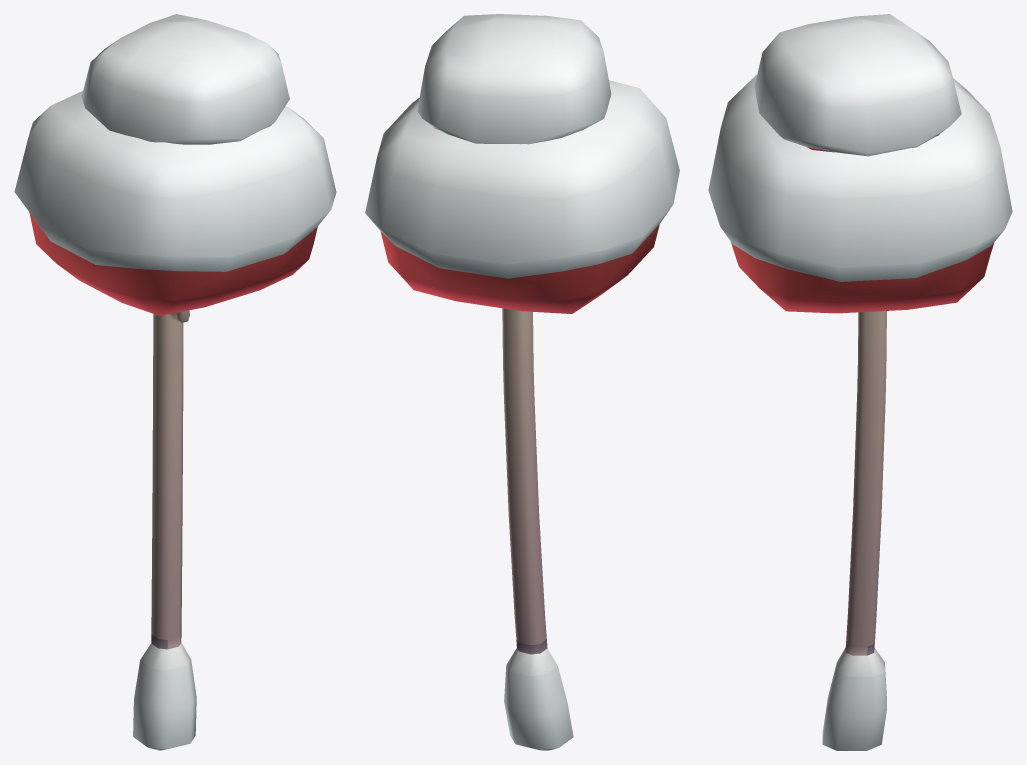
File: birch_tree_SC_09_snow.fbx
The picture shows the model from 3 angles, left to right: view 1: azimuth 30°, elevation 25°; view 2: azimuth 150°, elevation 25°; view 3: azimuth 270°, elevation 25°; orthographic projection. The views are drawn at different scales.
Parts seen in each view (by area): view 1: birch_tree_SC_09_snow; view 2: birch_tree_SC_09_snow; view 3: birch_tree_SC_09_snow.
Part boxes in pixels (x1,y1,x2,y2): birch_tree_SC_09_snow: (14,14,336,750); birch_tree_SC_09_snow: (365,14,679,750); birch_tree_SC_09_snow: (708,14,1012,750).
Bounding box in the file's own units: 188 × 489 × 187.
Materials: 1 (1 with a texture image).
